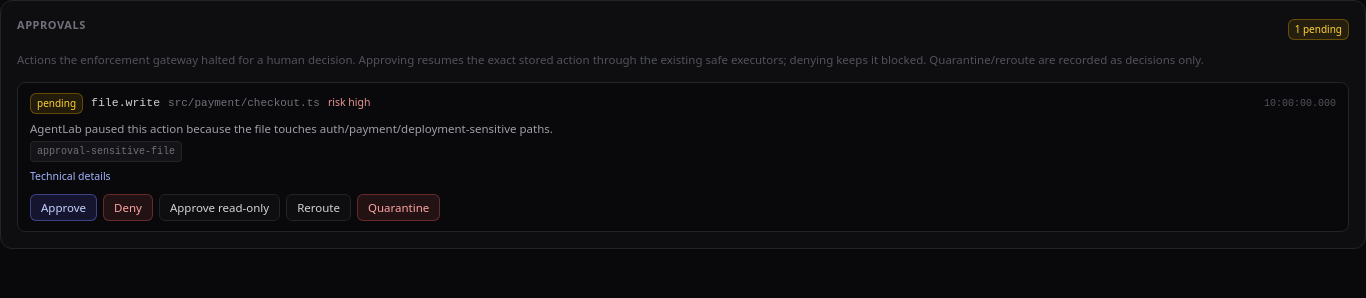
Test: ApprovalsPanel › expands technical details
Click the button "Technical details": click(70, 177) [30, 169, 111, 185]
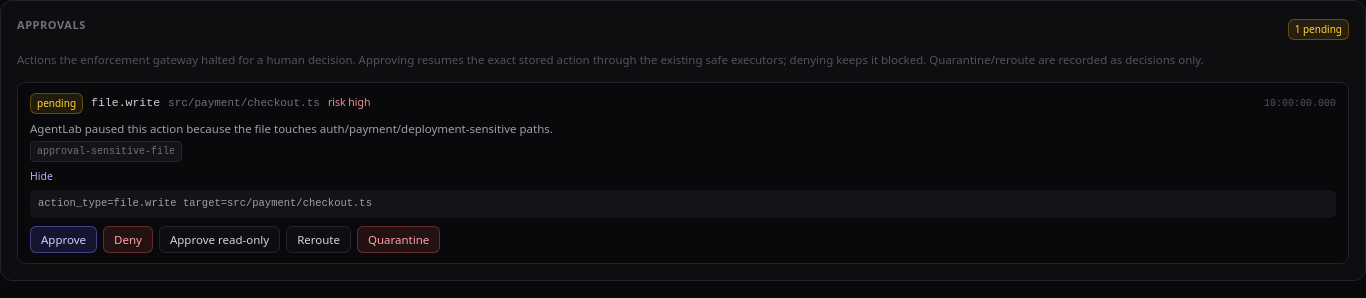
expect the text "action_type=file.write target=src/payment/checkout.ts" is shown: met, box [30, 190, 1336, 218]
